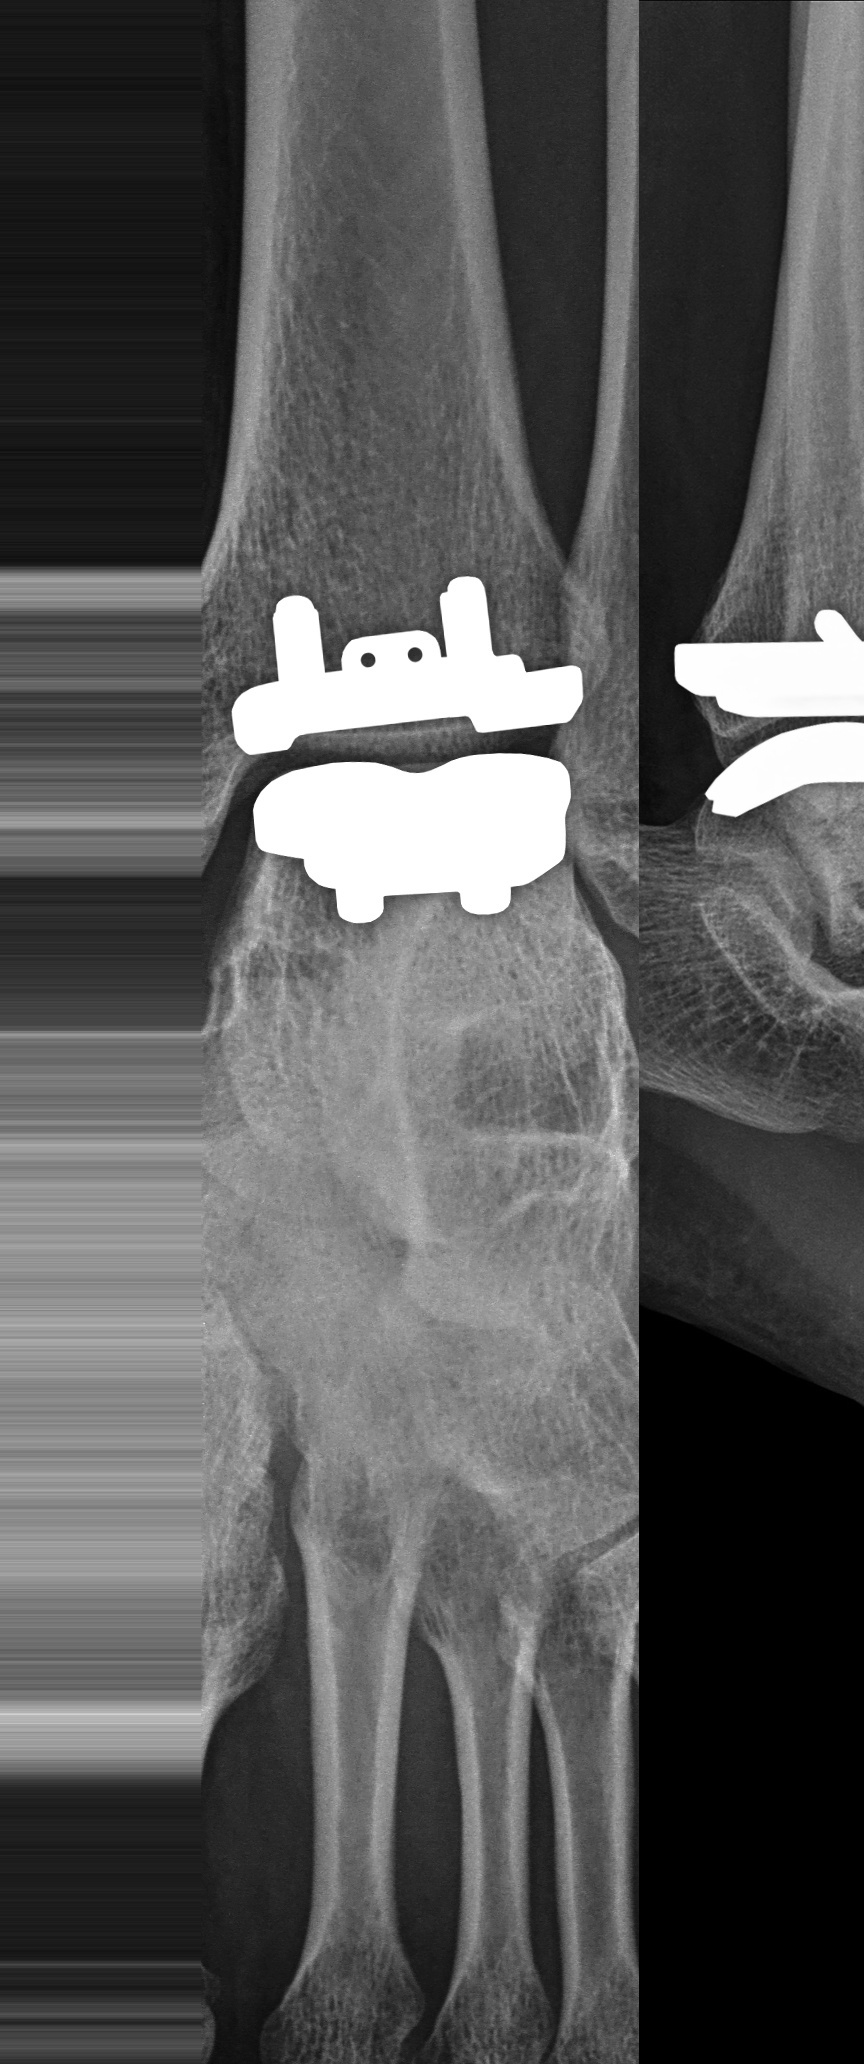Cadence-Integra: (202, 563, 605, 932), (660, 584, 864, 857)
